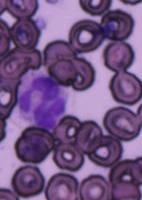N: (15, 70, 73, 132)
